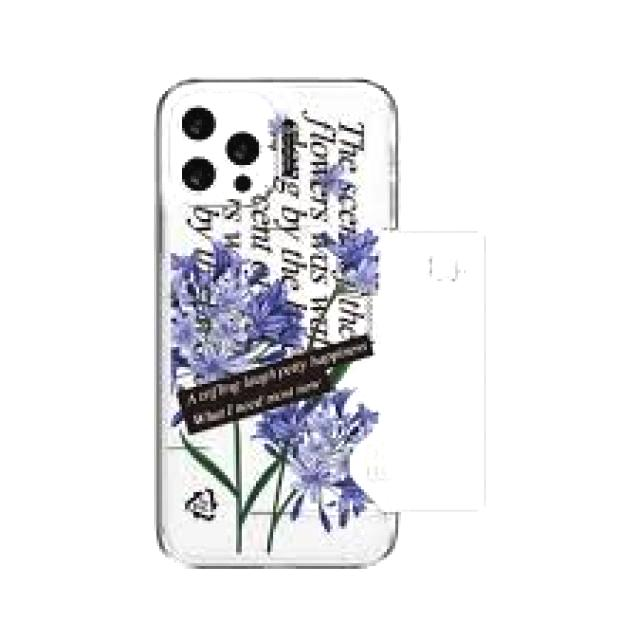lens: (174, 96, 268, 200)
phone: (155, 82, 402, 567)
